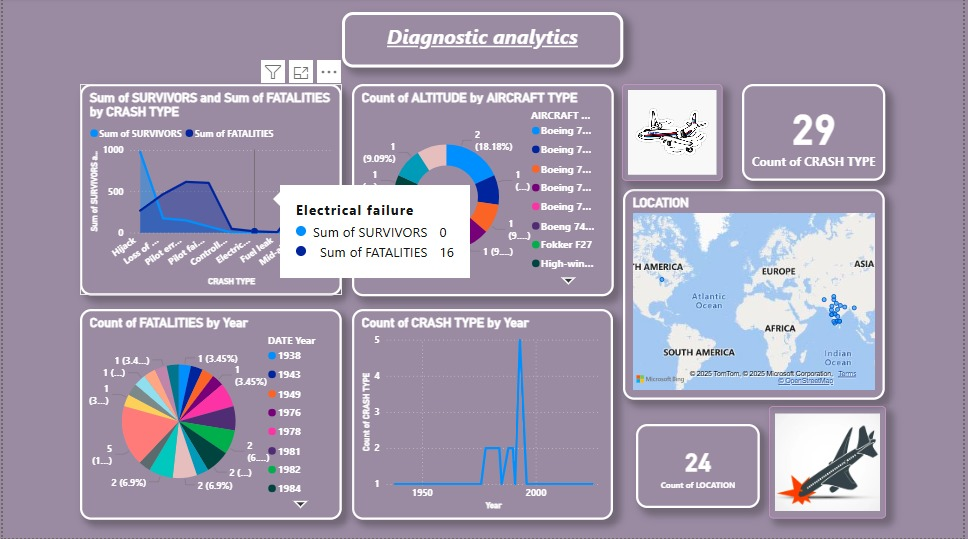

This screenshot's page, from the dashboard's own definition file:
{"tool":"powerbi","page":{"name":"Diagnostic","canvas":[1280,720],"ordinal":1},"visuals":[{"type":"lineChart","fields":{"Category":["Sheet1.DATE.Variation.Date Hierarchy.Year"],"Y":["CountNonNull(Sheet1.CRASH TYPE)"]},"box":[465.3,414.9,347.7,280.5],"z":0},{"type":"areaChart","fields":{"Y":["Sum(Sheet1.SURVIVORS)","Sum(Sheet1.FATALITIES)"],"Category":["Sheet1.CRASH TYPE"]},"box":[102.5,114.2,349.4,282.2],"z":1000},{"type":"pieChart","fields":{"Category":["Sheet1.DATE.Variation.Date Hierarchy.Year"],"Y":["CountNonNull(Sheet1.FATALITIES)"]},"box":[102.5,414.9,349.4,280.5],"z":2000},{"type":"donutChart","fields":{"Category":["Sheet1.AIRCRAFT TYPE"],"Y":["CountNonNull(Sheet1.ALTITUDE)"]},"box":[465.7,114.3,348.6,282.9],"z":3000},{"type":"map","fields":{"Category":["Sheet1.LOCATION"]},"box":[826.5,255.3,349.4,280.5],"z":4000},{"type":"card","fields":{"Values":["CountNonNull(Sheet1.CRASH TYPE)"]},"box":[985.7,114.3,191.4,128.6],"z":5000},{"type":"card","fields":{"Values":["Count(Sheet1.LOCATION)"]},"box":[844.5,568.2,165.5,111.8],"z":6000},{"type":"textbox","box":[451.9,18.5,374.6,73.9],"z":7000},{"type":"image","box":[825.7,114.3,134.3,128.6],"z":8000},{"type":"image","box":[1021.4,544.3,155.7,150],"z":9000}]}

Visuals, with their boxes in screenshot pixels (x1, y1, x2, y2), scaled from the page's 1280x720 canvas onto the 968x539 screenshot:
lineChart - Sheet1.DATE.Variation.Date Hierarchy.Year x CountNonNull(Sheet1.CRASH TYPE): region(352, 311, 615, 521)
areaChart - Sum(Sheet1.SURVIVORS) x Sum(Sheet1.FATALITIES): region(78, 85, 342, 297)
pieChart - Sheet1.DATE.Variation.Date Hierarchy.Year x CountNonNull(Sheet1.FATALITIES): region(78, 311, 342, 521)
donutChart - Sheet1.AIRCRAFT TYPE x CountNonNull(Sheet1.ALTITUDE): region(352, 86, 616, 297)
map - Sheet1.LOCATION: region(625, 191, 889, 401)
card - CountNonNull(Sheet1.CRASH TYPE): region(745, 86, 890, 182)
card - Count(Sheet1.LOCATION): region(639, 425, 764, 509)
textbox: region(342, 14, 625, 69)
image: region(624, 86, 726, 182)
image: region(772, 407, 890, 520)
